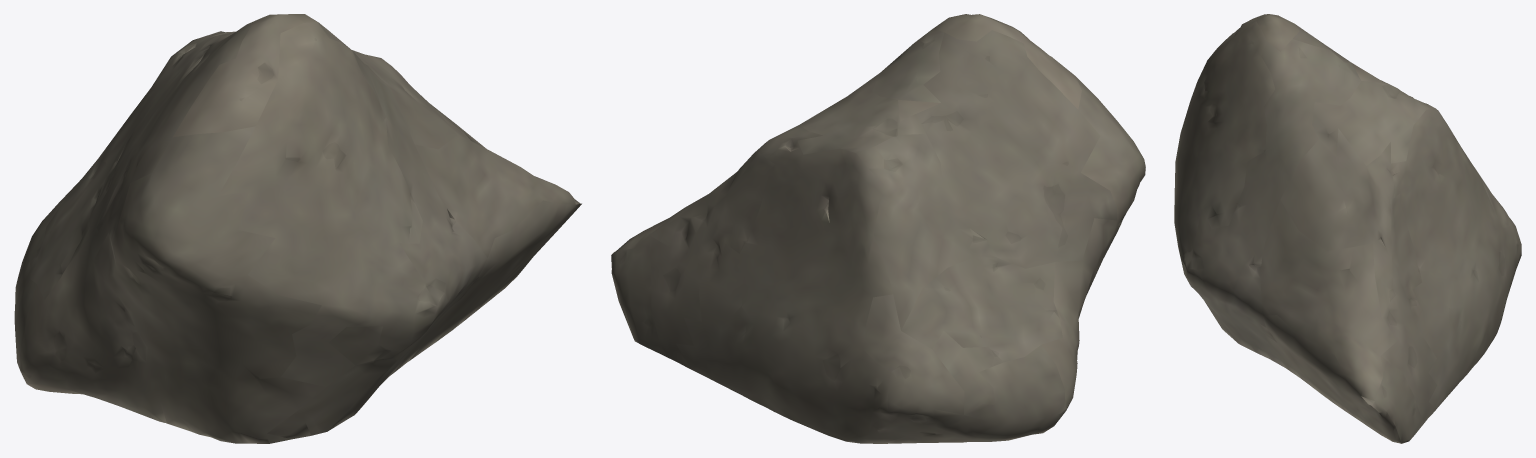
Rendered from corealm_ore_grithe_spent.glb.
3 views of the same model, side by side, from view 1: azimuth 30°, elevation 25°; view 2: azimuth 150°, elevation 25°; view 3: azimuth 270°, elevation 25° (orthographic). The views are drawn at different scales.
Visible parts, largest first — view 1: corealm_ore_grithe_spent; view 2: corealm_ore_grithe_spent; view 3: corealm_ore_grithe_spent.
Boxes of the visible parts, left/top/right/bottom form: corealm_ore_grithe_spent: left=14, top=14, right=581, bottom=443; corealm_ore_grithe_spent: left=611, top=14, right=1145, bottom=443; corealm_ore_grithe_spent: left=1174, top=14, right=1521, bottom=443.
Bounding box in the file's own units: 2.6 × 1.8 × 1.85.
1 material, 1 textured.
